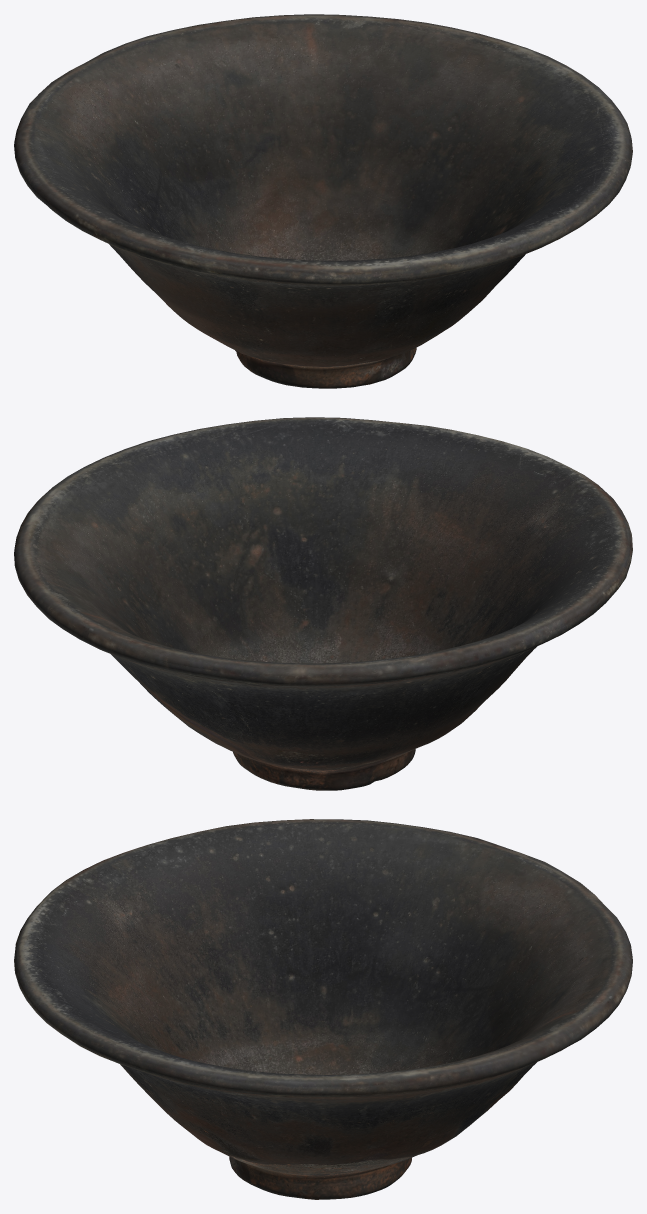
Rendered from MTY000090.glb.
3 renders of one model, top to bottom at view 1: azimuth 30°, elevation 25°; view 2: azimuth 150°, elevation 25°; view 3: azimuth 270°, elevation 25°, orthographic.
Visible parts, largest first — view 1: MTY000090_mesh; view 2: MTY000090_mesh; view 3: MTY000090_mesh.
Part boxes in pixels (x1,y1,x2,y2): MTY000090_mesh: (14,14,632,388); MTY000090_mesh: (14,417,632,790); MTY000090_mesh: (14,819,632,1199).
Bounding box in the file's own units: 41.07 × 16.16 × 41.18.
1 material, 1 textured.
